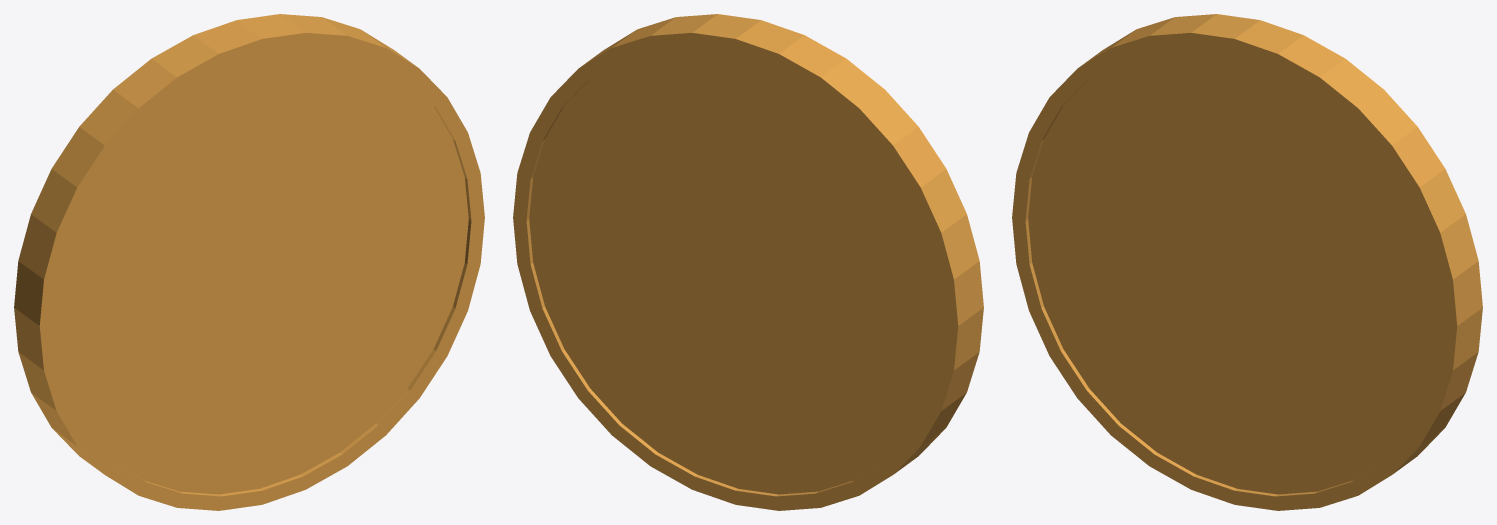
The model's file is Coint.fbx.
The picture shows the model from 3 angles, left to right: view 1: azimuth 30°, elevation 25°; view 2: azimuth 150°, elevation 25°; view 3: azimuth 330°, elevation 25°; orthographic projection.
Visible parts, largest first — view 1: Cylinder; view 2: Cylinder; view 3: Cylinder.
Boxes of the visible parts, x1,y1,x2,y2 form: Cylinder: [14, 14, 484, 510]; Cylinder: [513, 14, 983, 510]; Cylinder: [1012, 14, 1482, 510].
Size of the model in its own units: 414 by 414 by 41.4.
